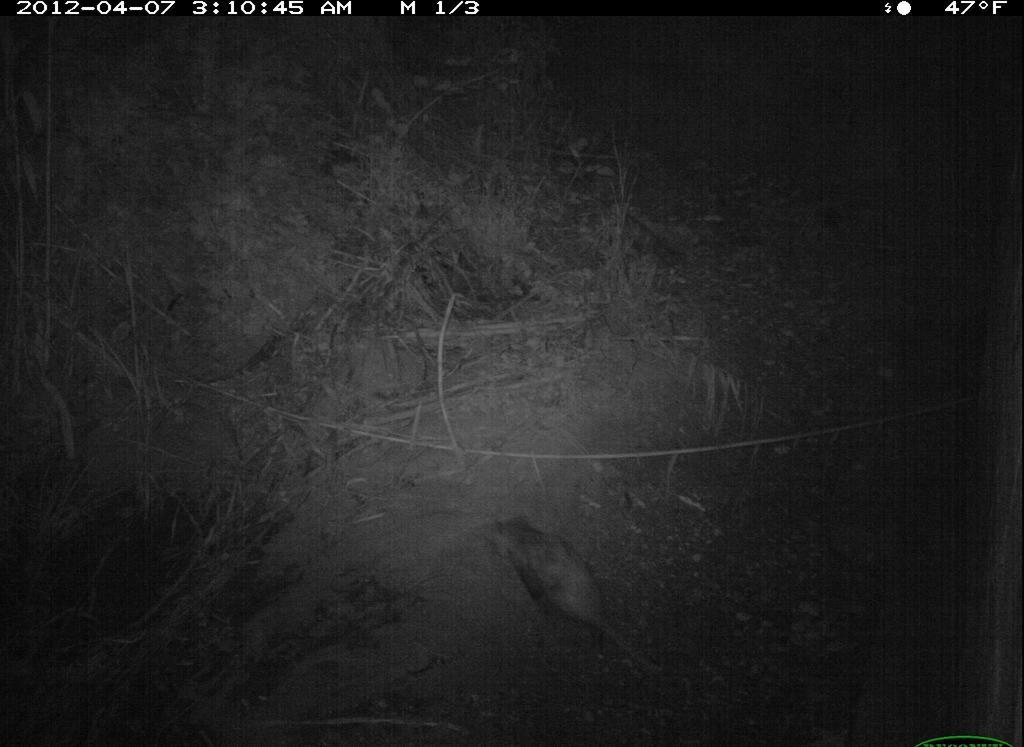opossum: (489, 513, 657, 687)
